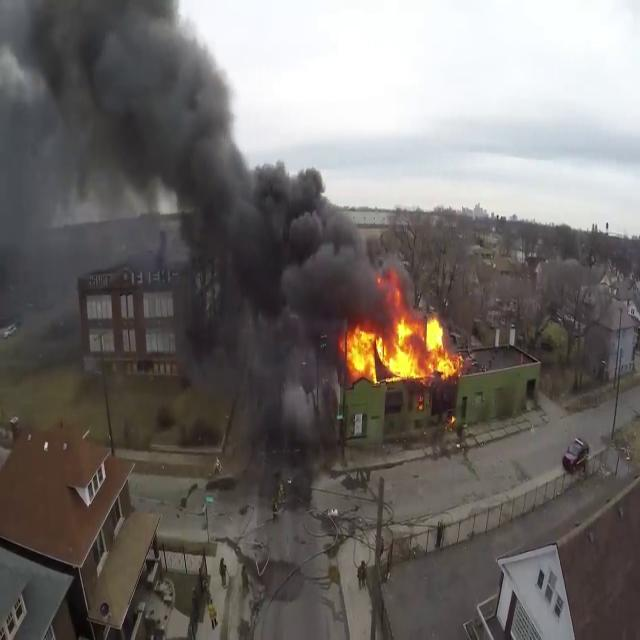Fire: (341, 290, 459, 387)
Smoke: (1, 0, 381, 379)
